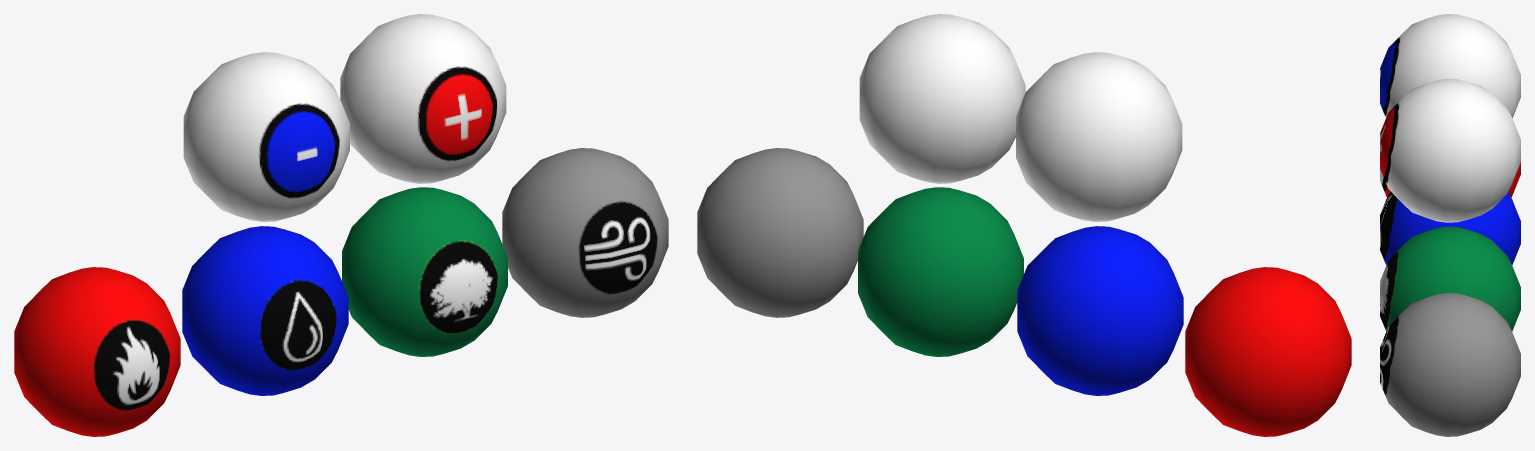
Rendered from pool_special.fbx.
The picture shows the model from 3 angles, left to right: view 1: azimuth 30°, elevation 25°; view 2: azimuth 150°, elevation 25°; view 3: azimuth 270°, elevation 25°; orthographic projection. The views are drawn at different scales.
Visible parts, largest first — view 1: -, fire, water, wind, earth, +; view 2: water, fire, -, wind, earth, +; view 3: +, wind, earth, -, water, fire.
Part boxes in pixels (<box>): -: <box>183,52,349,221</box>; fire: <box>14,267,180,436</box>; water: <box>182,226,348,395</box>; wind: <box>502,148,668,317</box>; earth: <box>342,187,507,356</box>; +: <box>340,14,506,183</box>; water: <box>1017,226,1183,395</box>; fire: <box>1185,267,1351,436</box>; -: <box>1016,52,1182,221</box>; wind: <box>697,148,863,317</box>; earth: <box>858,187,1023,356</box>; +: <box>859,14,1025,183</box>; +: <box>1380,78,1520,222</box>; wind: <box>1380,293,1520,436</box>; earth: <box>1380,226,1520,331</box>; -: <box>1380,14,1520,117</box>; water: <box>1380,192,1520,264</box>; fire: <box>1380,162,1520,197</box>.
Size of the model in its own units: 856 by 424 by 195.
6 materials, 6 textured.
